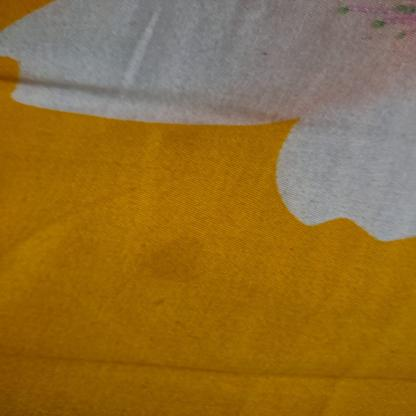spot: (143, 230, 247, 317)
